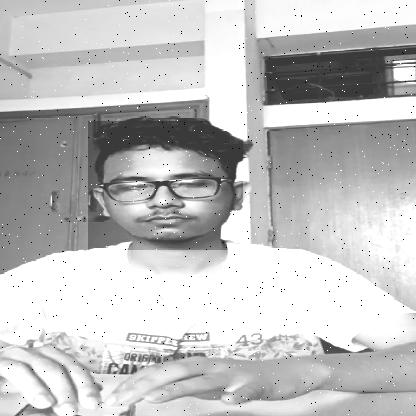Normal: (88, 121, 243, 250)
